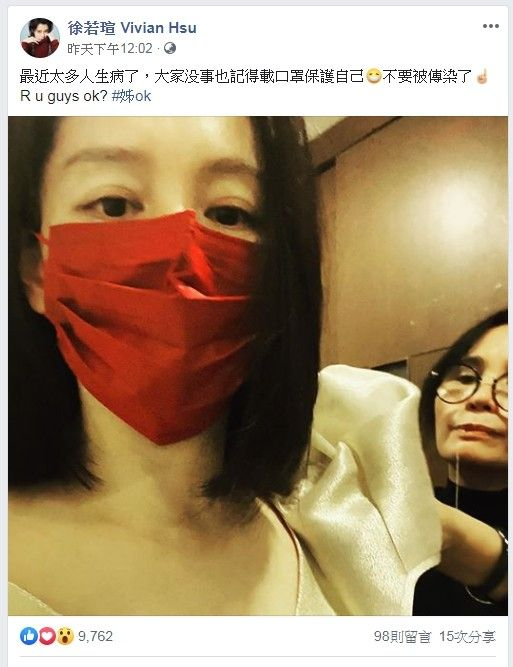Mask: (39, 123, 294, 436)
